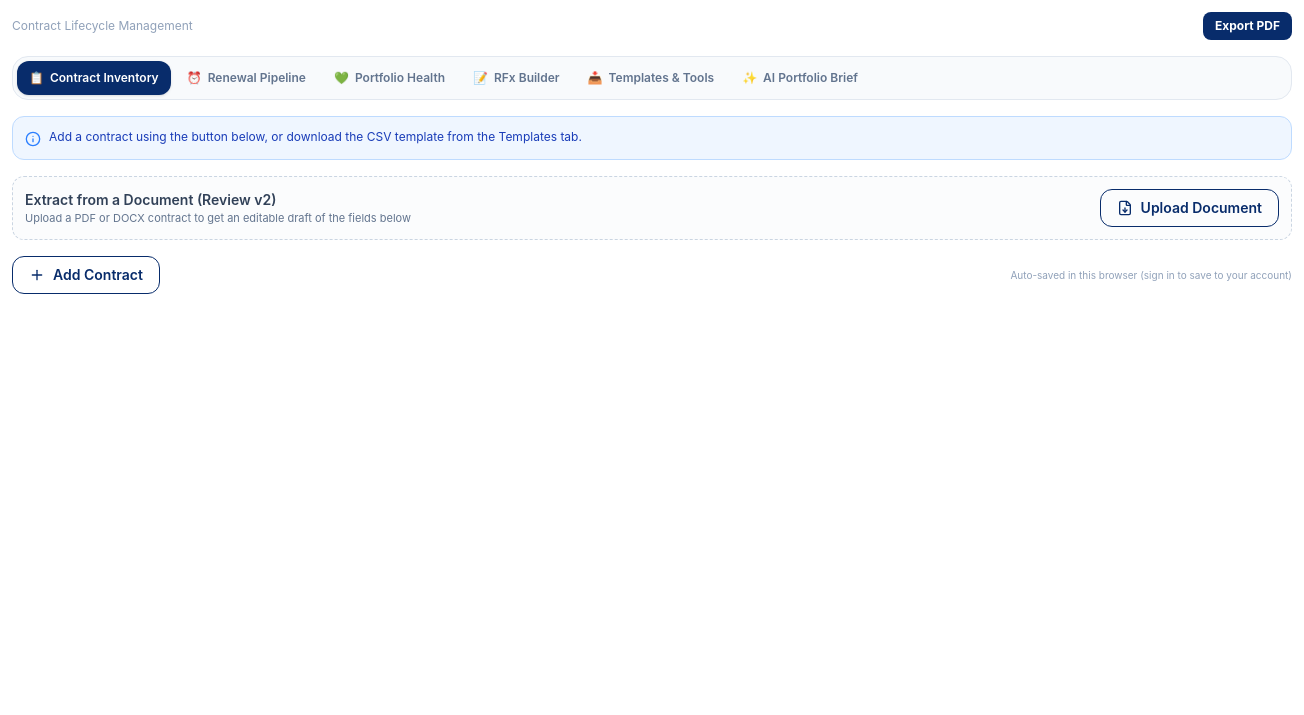
Test case: ContractHealthChecker — rebate fields (#179) › shows the CLAIMABLE REBATE badge when purchaseVolume meets rebateThreshold
The image size is (1304, 715).
Click the button "Add Contract" at (86, 275), box [12, 256, 160, 294]
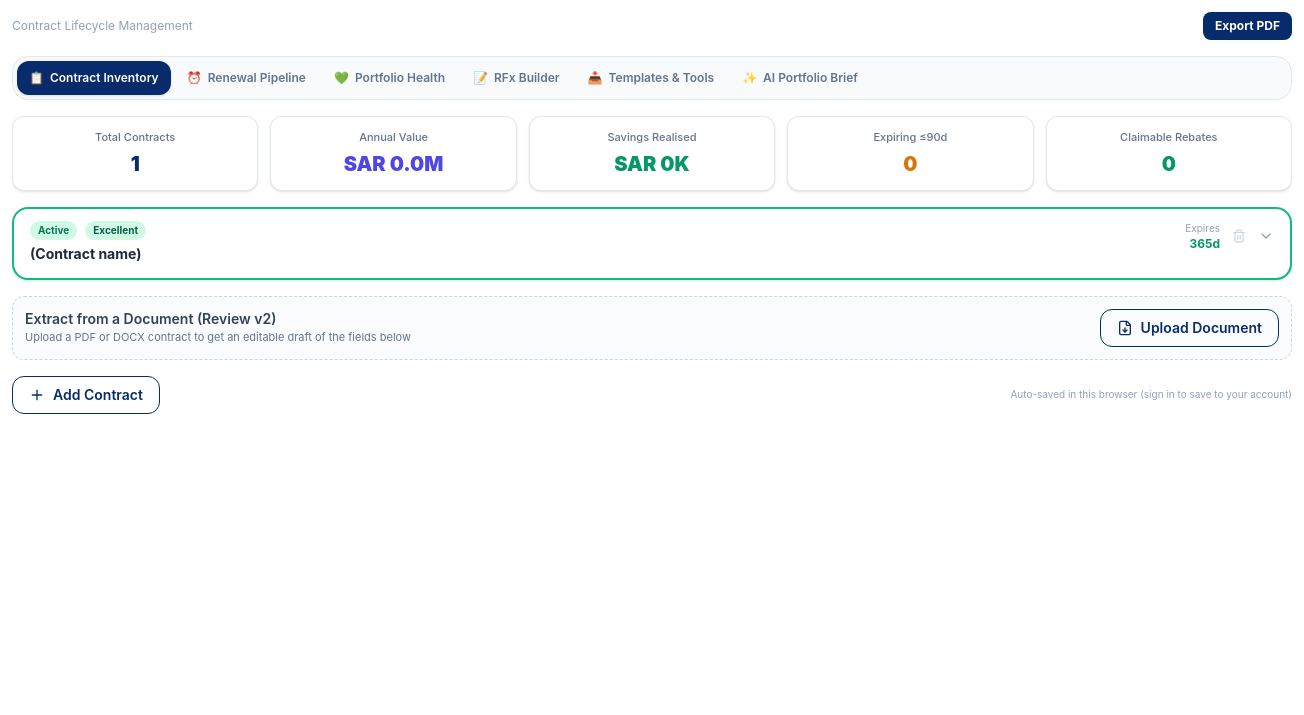
Click the text "(Contract name)" at (86, 253), box [30, 244, 142, 262]
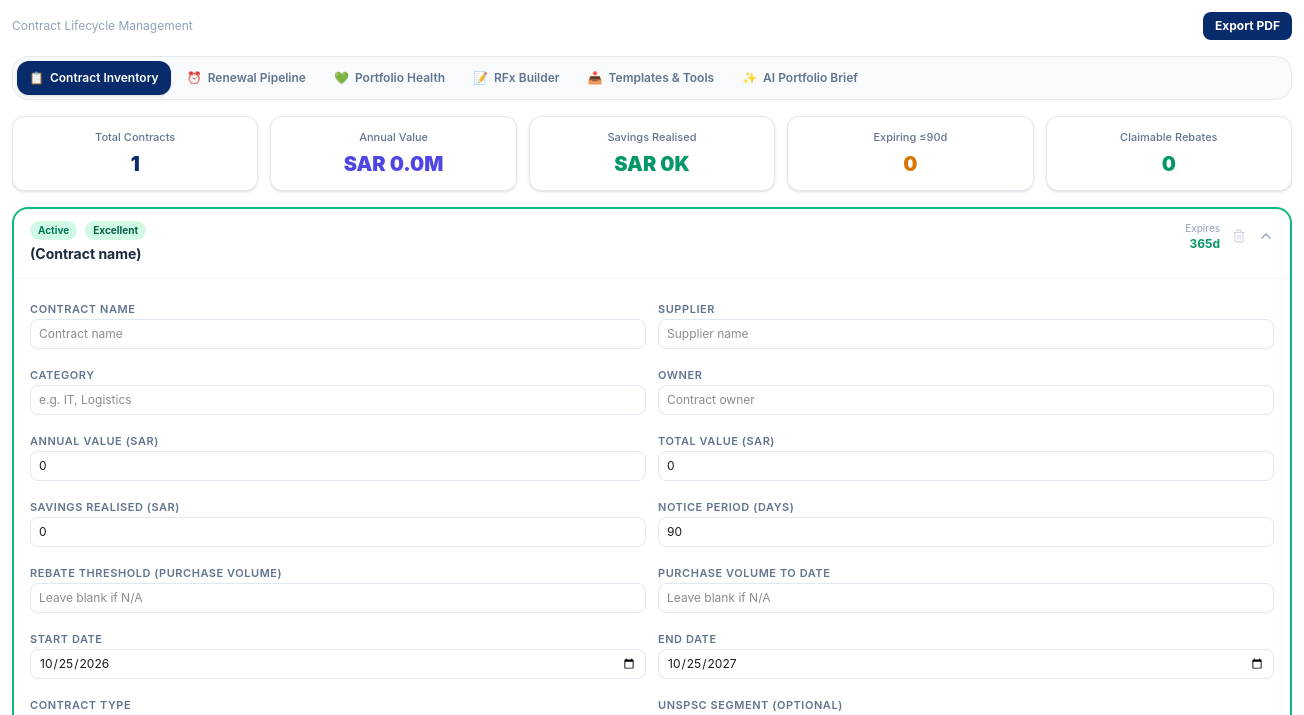
Type "1000000" into the number field with placeholder "Leave blank if N/A" below "Rebate Threshold (Purchase Volume)" at (338, 598), box [30, 582, 646, 612]
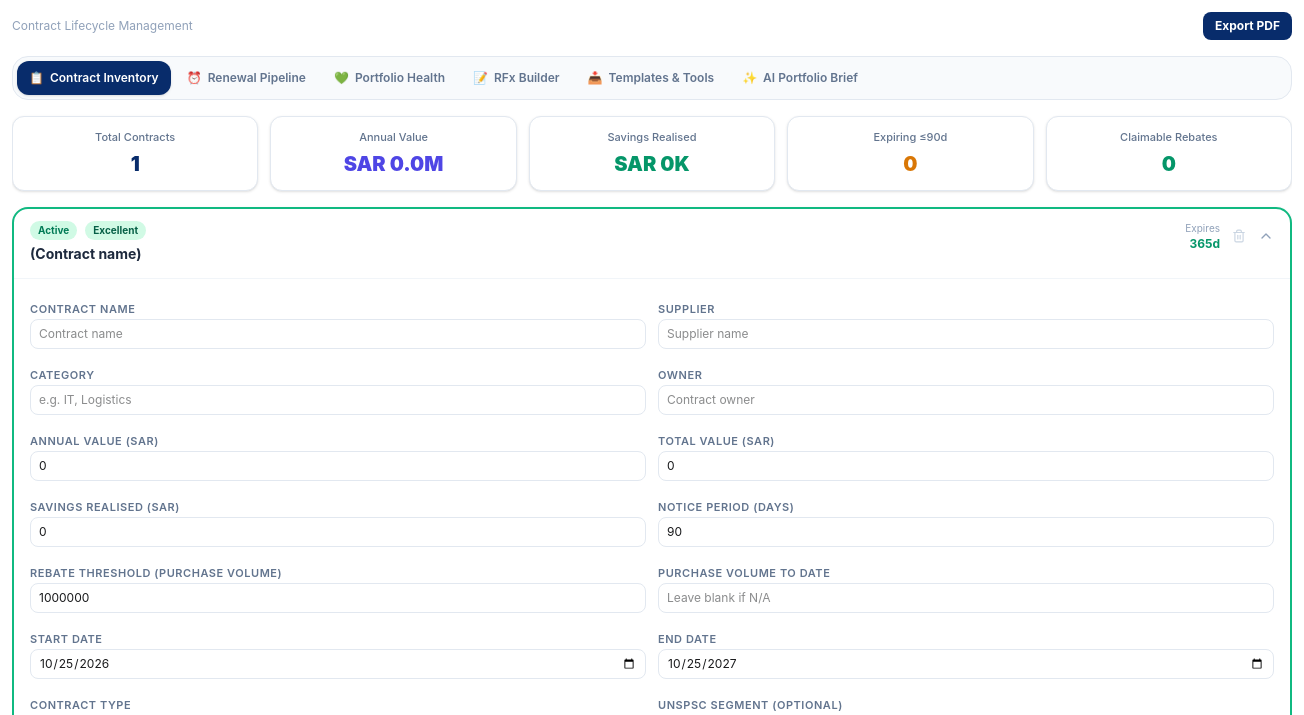
Type "1000000" into the number field with placeholder "Leave blank if N/A" at (966, 598), box [658, 582, 1274, 612]
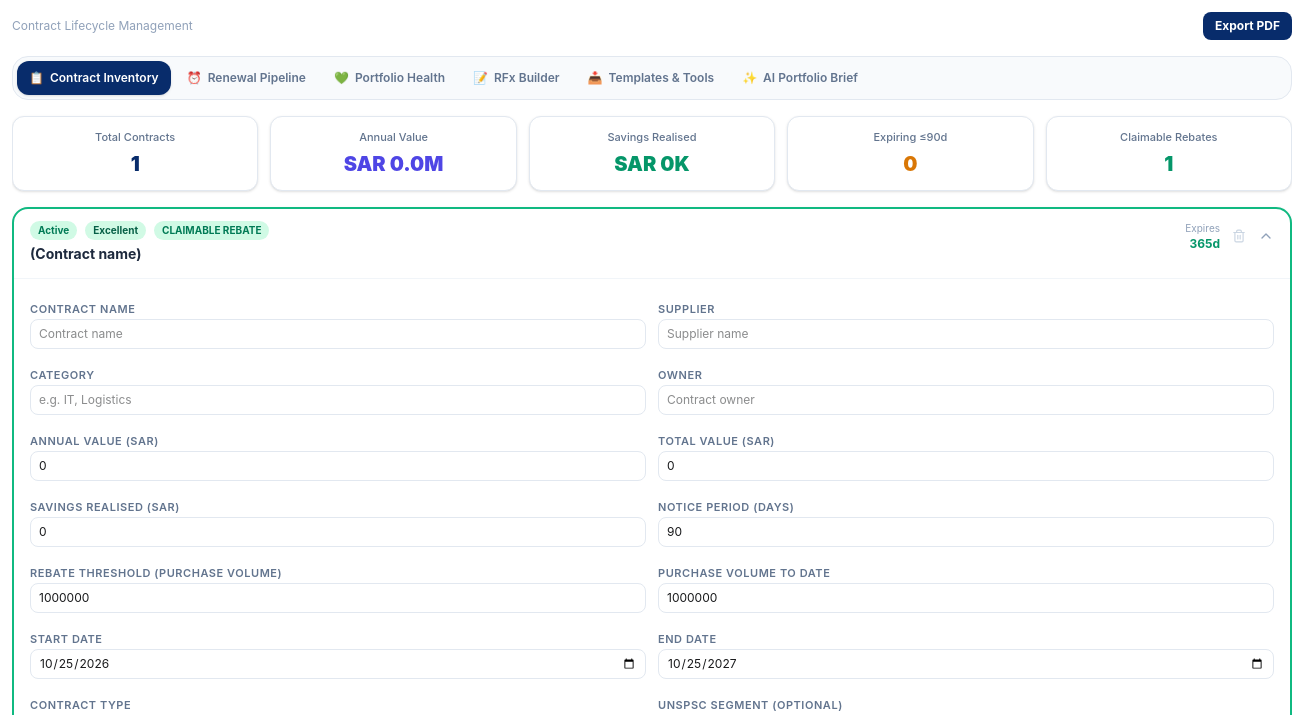
expect the text "CLAIMABLE REBATE" is shown: met, box [154, 220, 269, 240]
